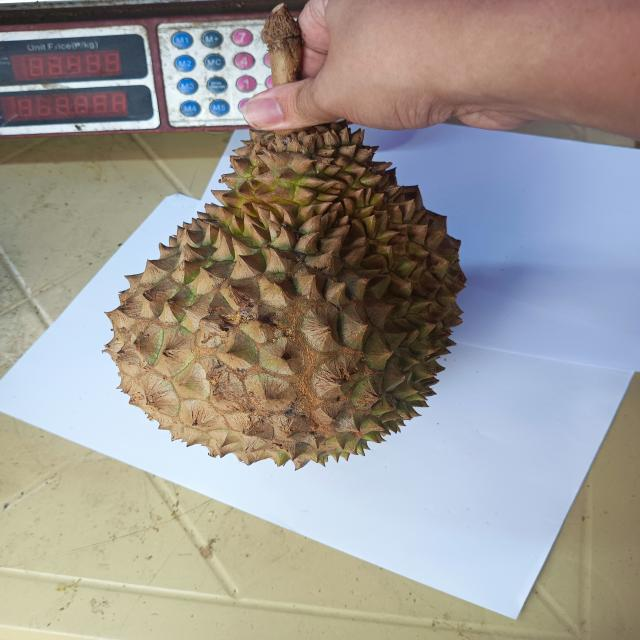mature: (105, 123, 465, 469)
